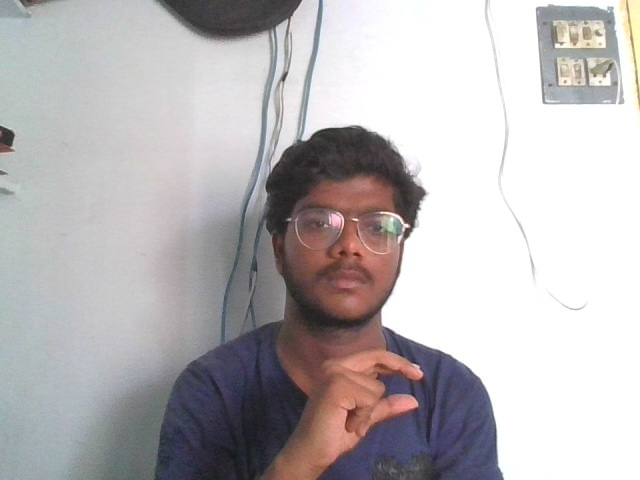No: (285, 348, 428, 456)
